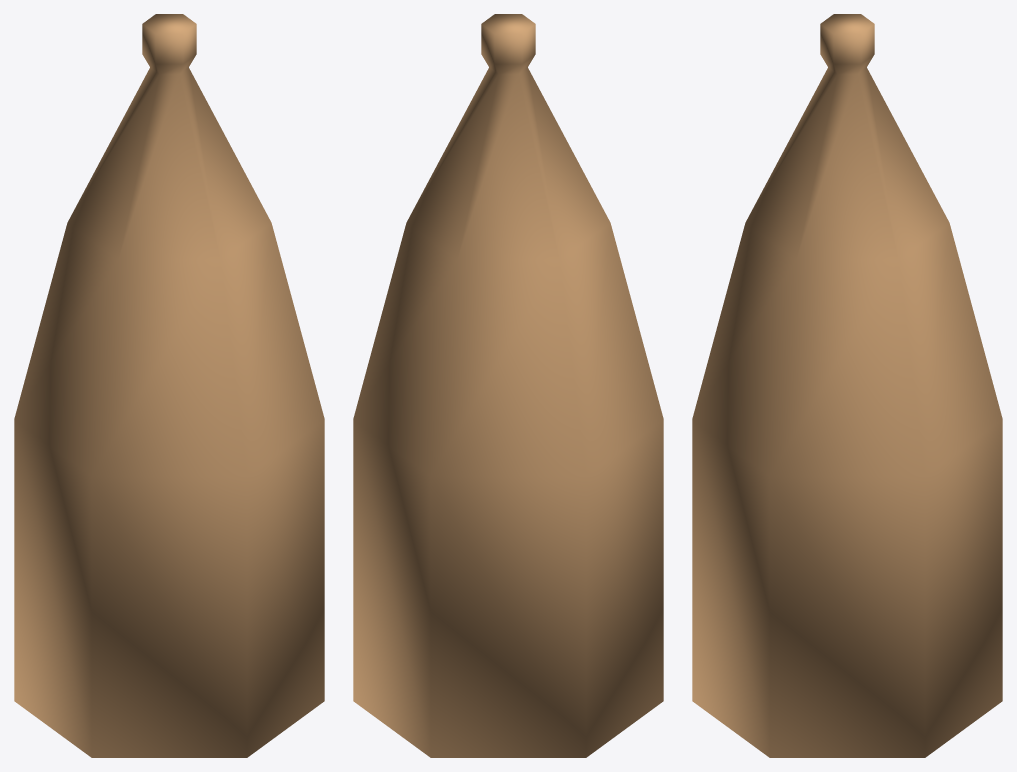
File: drink_bottle_brown.fbx
3 views of the same model, side by side, from view 1: azimuth 30°, elevation 25°; view 2: azimuth 150°, elevation 25°; view 3: azimuth 270°, elevation 25° (orthographic).
Parts seen in each view (by area): view 1: Cylinder; view 2: Cylinder; view 3: Cylinder.
Part boxes in pixels (<box>): Cylinder: <box>14,14,324,757</box>; Cylinder: <box>353,14,663,757</box>; Cylinder: <box>692,14,1002,757</box>.
Size of the model in its own units: 173 by 481 by 200.
